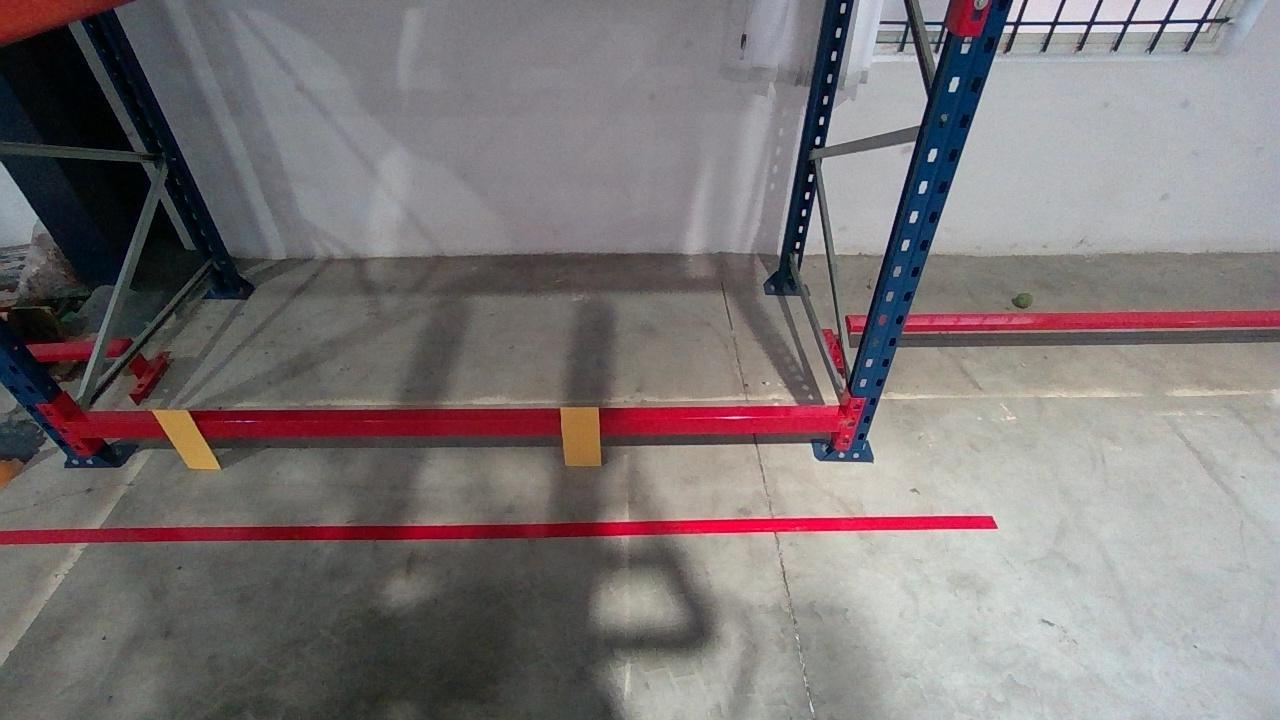h_rack: (61, 415, 845, 437)
orange_strip: (148, 410, 222, 469), (557, 406, 601, 466)
red_line: (3, 514, 999, 542)
